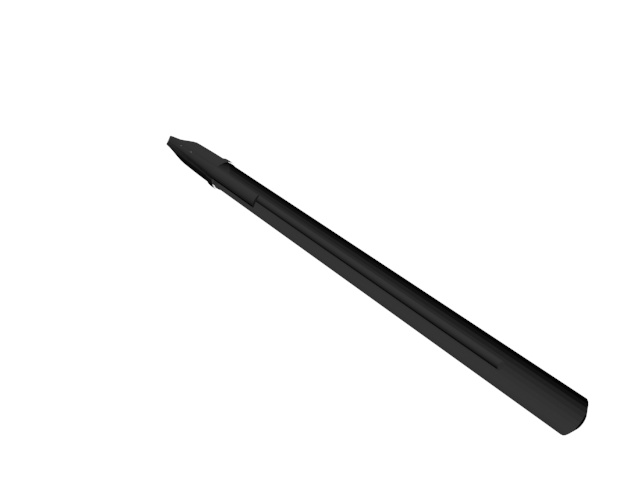pen: (161, 129, 592, 440)
